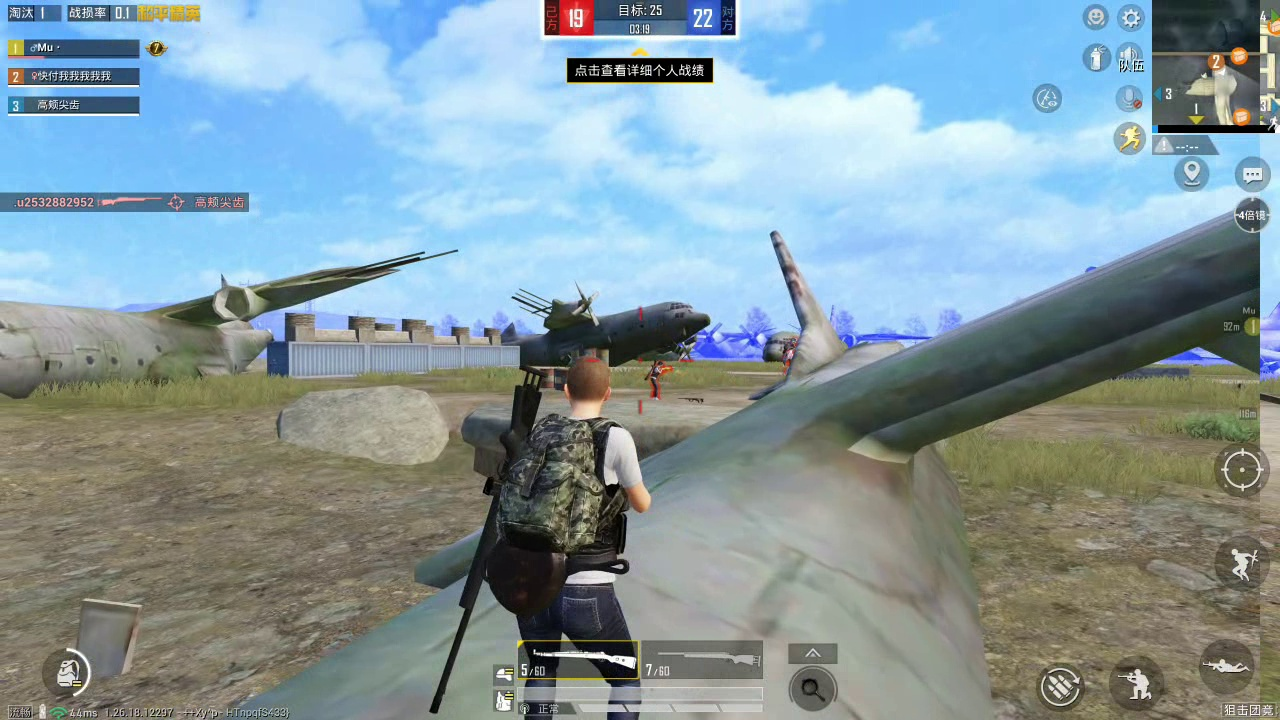enemy: (647, 355, 669, 398), (780, 335, 795, 375)
